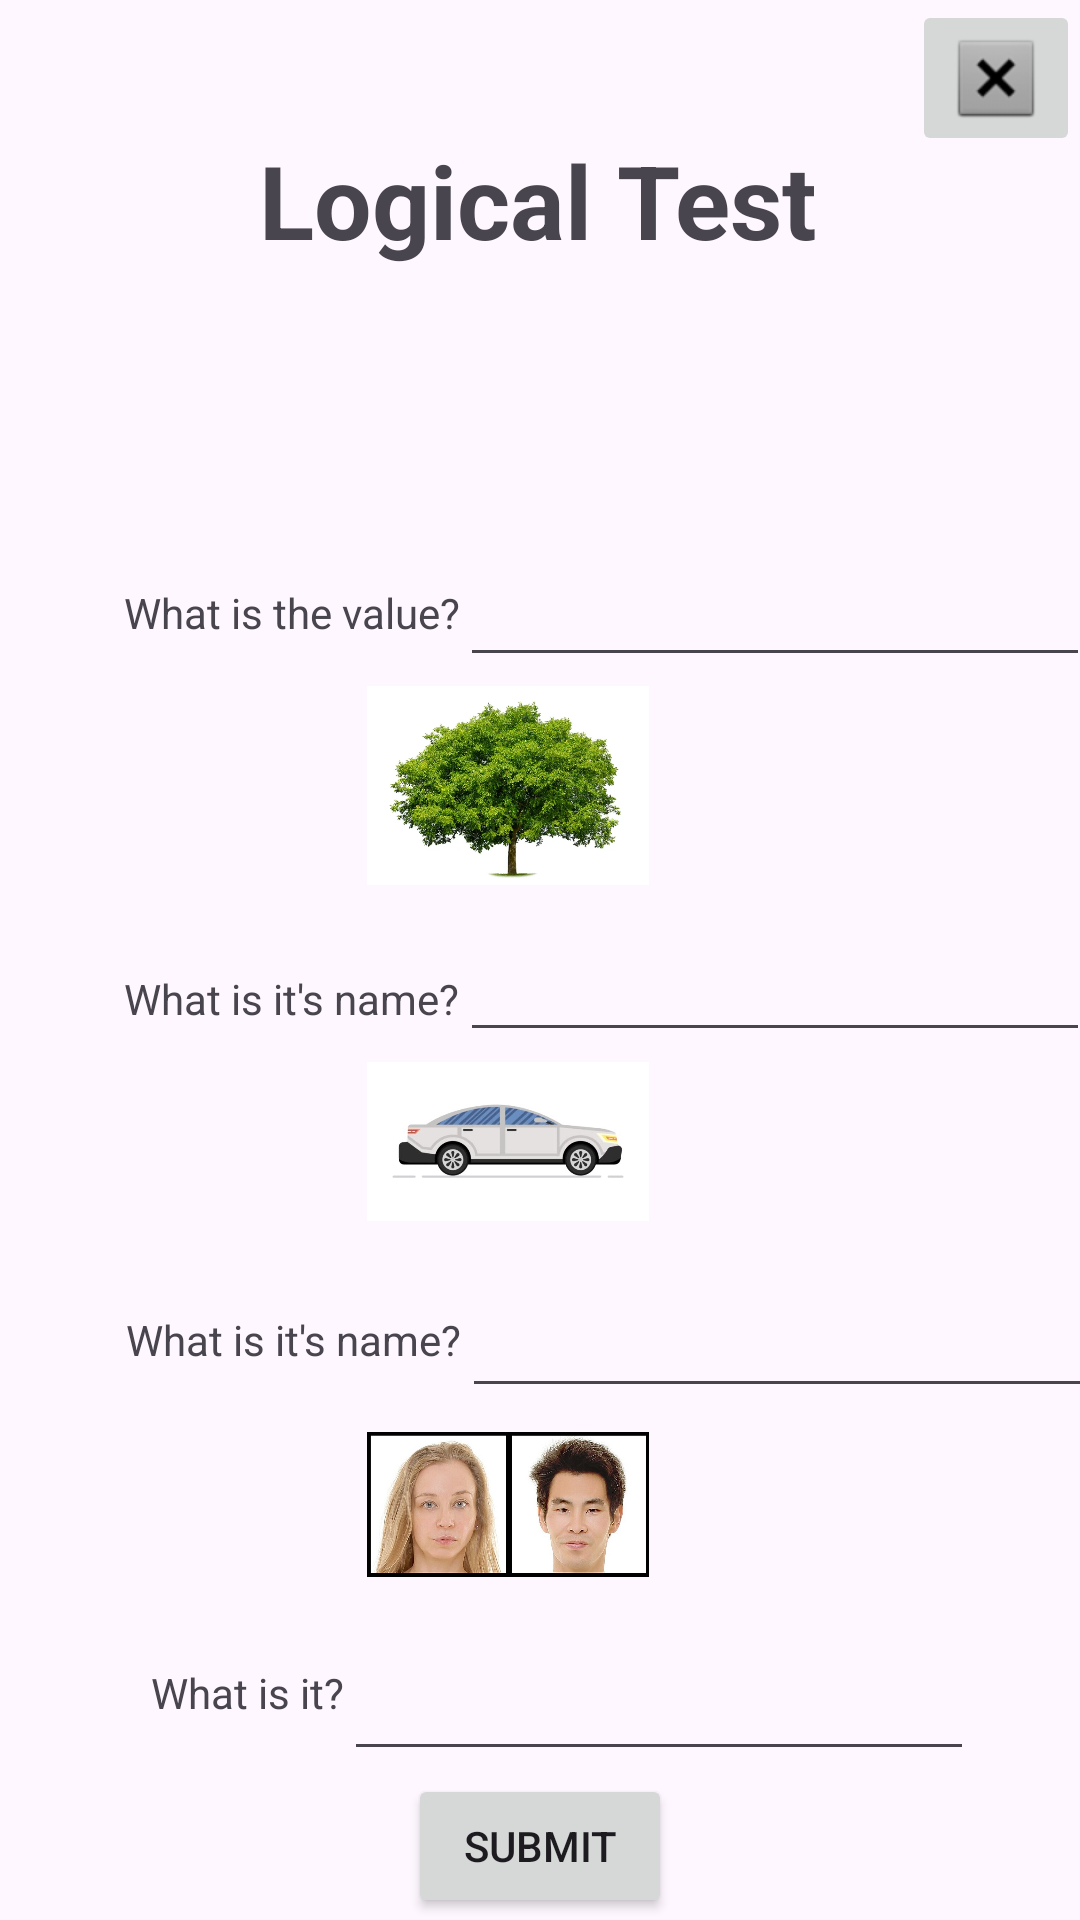

Where to tap for icons on this 1080px×1920px app screen, as [x,y]:
humanfaces: [508,1504]
tree: [505,789]
